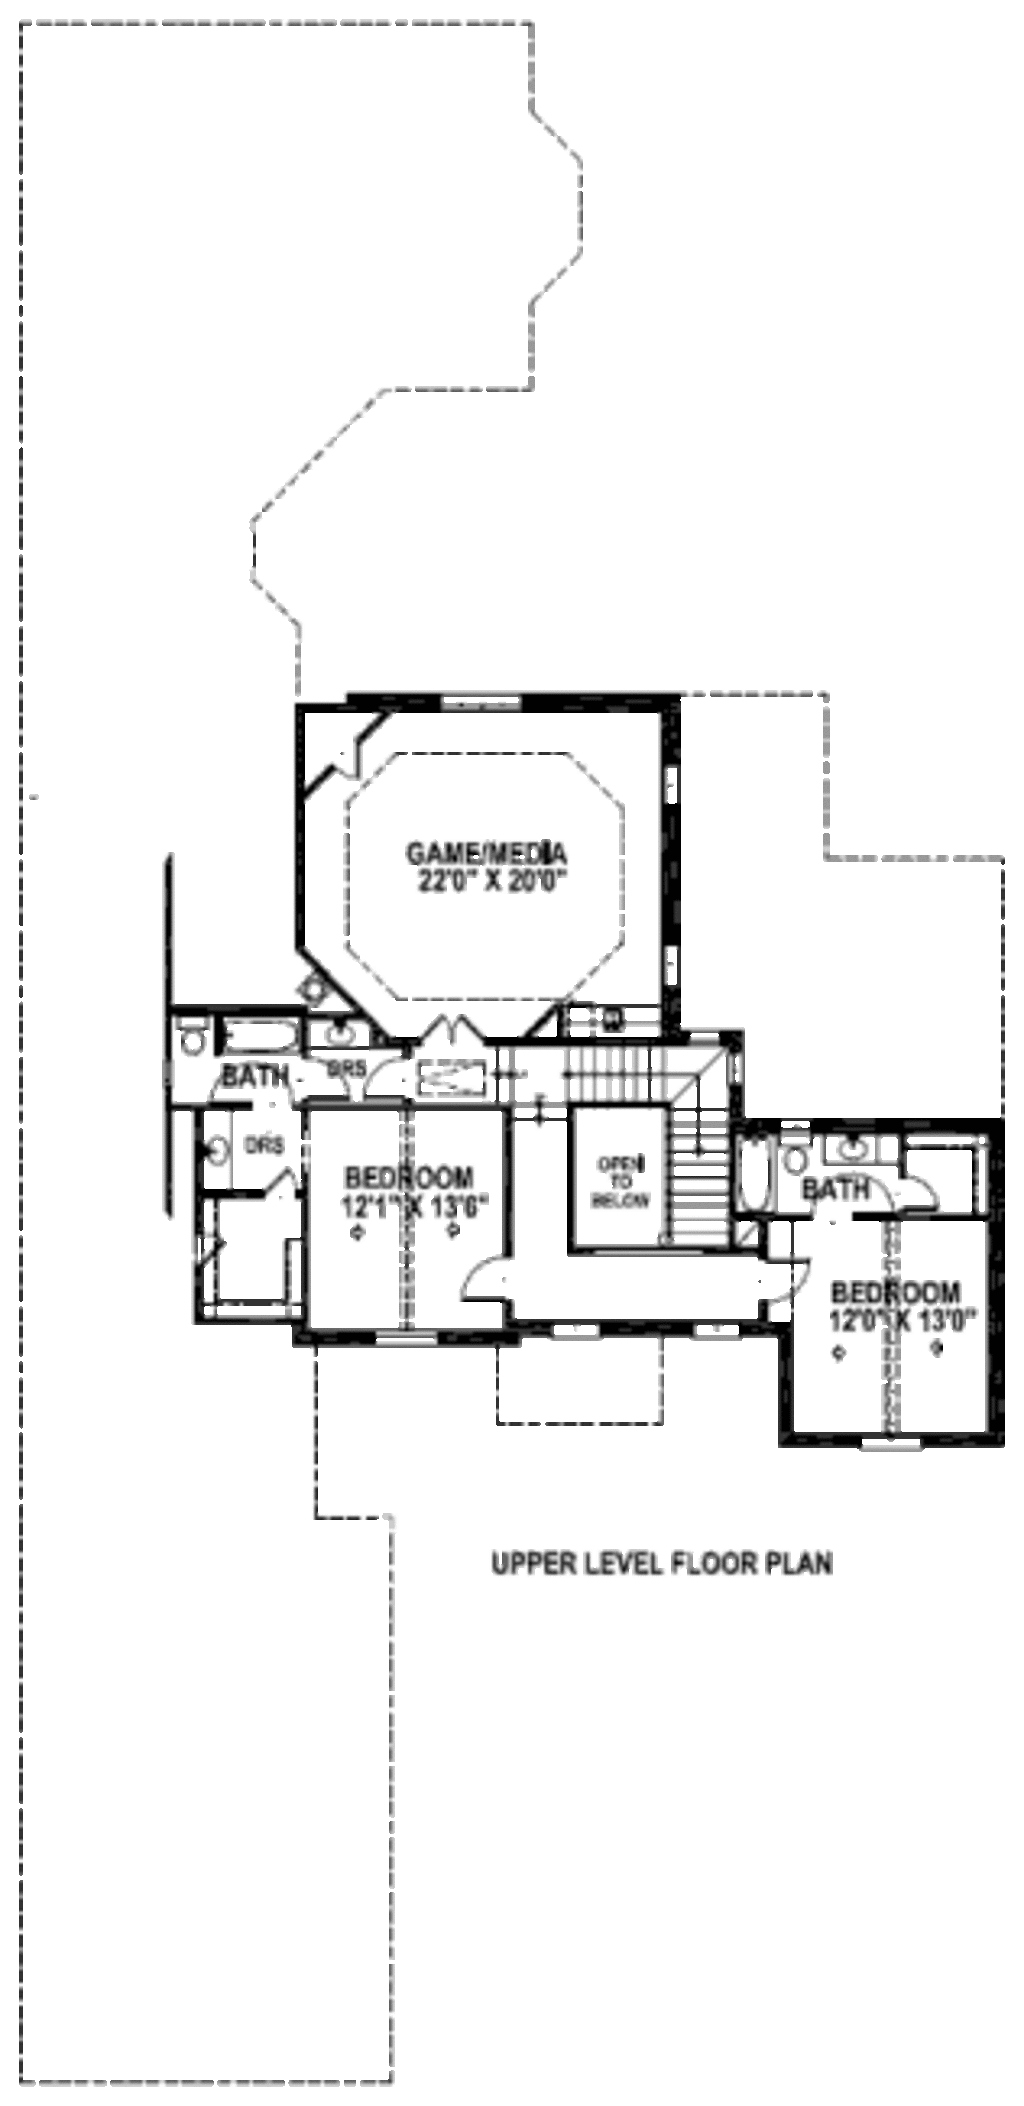door: (740, 1241, 826, 1331), (392, 1001, 516, 1061), (232, 1148, 316, 1221), (176, 1211, 253, 1275), (443, 1248, 511, 1315), (886, 1164, 930, 1236)
large_sink: (753, 1105, 813, 1178), (167, 997, 210, 1065)
small_sink: (306, 1010, 392, 1065), (826, 1115, 883, 1189)
stairs: (556, 1027, 716, 1250)
tub: (226, 990, 320, 1079)
window: (833, 1418, 966, 1477), (630, 911, 703, 1007), (433, 674, 525, 731), (650, 749, 710, 825), (376, 1322, 466, 1365), (540, 1311, 603, 1348)
